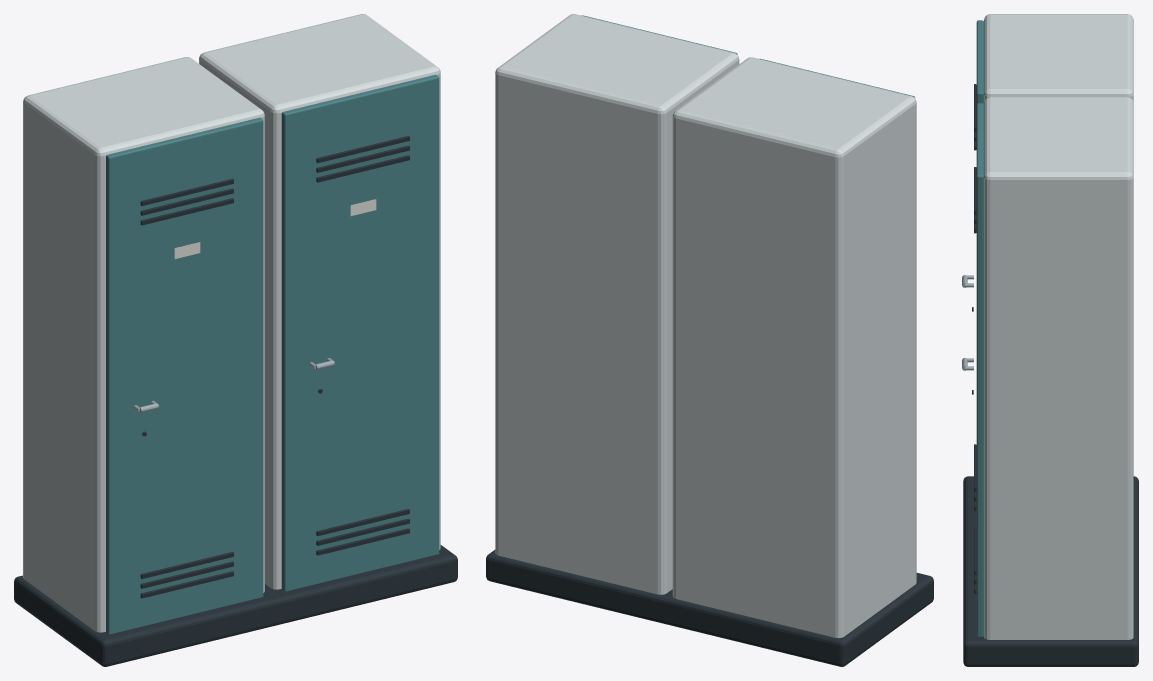
File: SF_SC_GearLockers.fbx
3 renders of one model, left to right at view 1: azimuth 30°, elevation 25°; view 2: azimuth 150°, elevation 25°; view 3: azimuth 270°, elevation 25°, orthographic. The views are drawn at different scales.
Visible parts, largest first — view 1: SF_SC_GearLockers; view 2: SF_SC_GearLockers; view 3: SF_SC_GearLockers.
Part boxes in pixels (x1,y1,x2,y2): SF_SC_GearLockers: [14, 14, 457, 666]; SF_SC_GearLockers: [486, 14, 933, 666]; SF_SC_GearLockers: [962, 14, 1138, 666].
Bounding box in the file's own units: 154 × 210 × 68.5.
